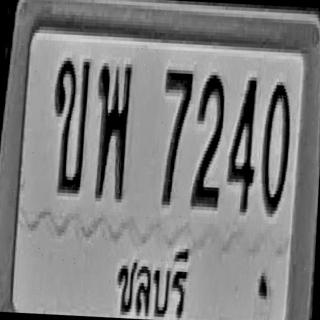A02: (50, 57, 91, 194)
A30: (92, 59, 132, 200)
N00: (259, 78, 292, 214)
N02: (190, 71, 226, 208)
N04: (225, 73, 259, 212)
N07: (158, 66, 193, 206)
P13: (103, 235, 200, 320)
